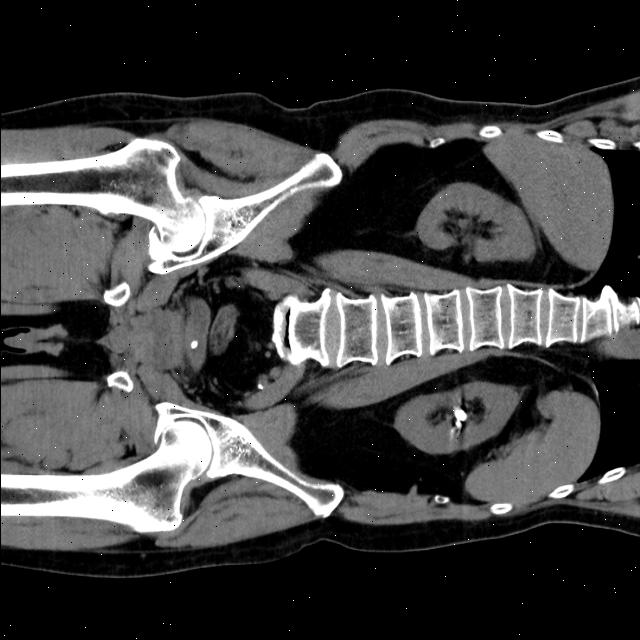kidneystone: (453, 408, 466, 428)
